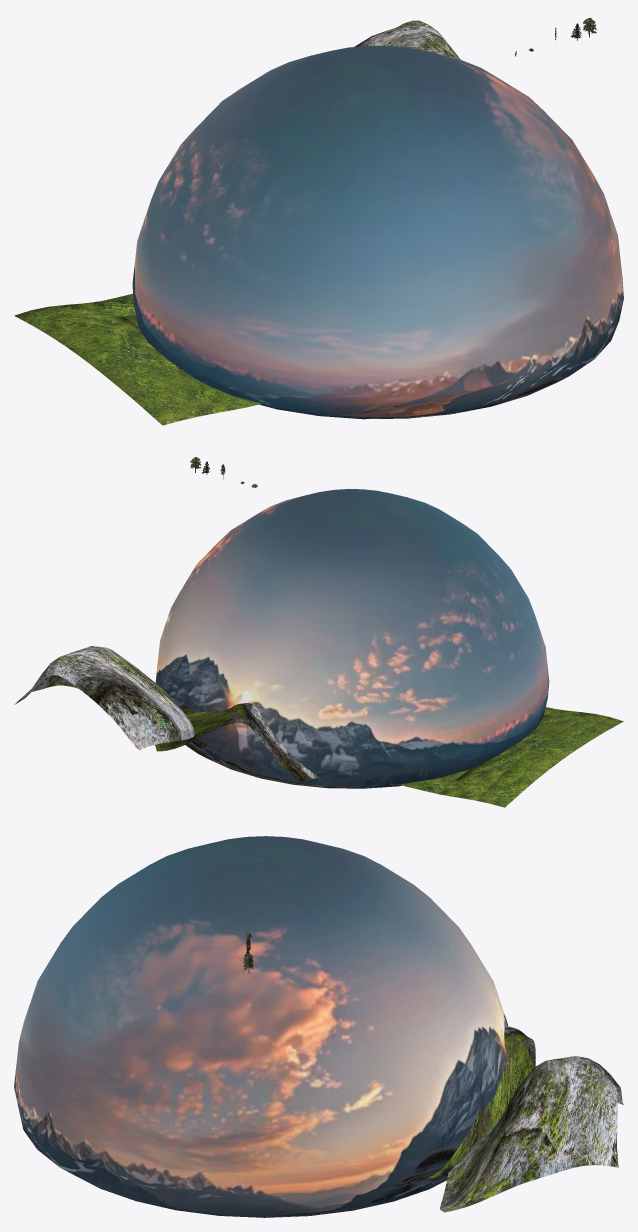
File: forest_lake.glb
The picture shows the model from 3 angles, top to bottom: view 1: azimuth 30°, elevation 25°; view 2: azimuth 150°, elevation 25°; view 3: azimuth 270°, elevation 25°; orthographic projection. The views are drawn at different scales.
Parts seen in each view (by area): view 1: Sphere_Material.011_0, Terrain, Plane.009_Material.009_0; view 2: Sphere_Material.011_0, Plane.009_Material.009_0, Terrain, Plane.007_Material.008_0; view 3: Sphere_Material.011_0, Plane.009_Material.009_0, Plane.007_Material.008_0.
Part boxes in pixels (x1,y1,x2,y2): Sphere_Material.011_0: [132, 45, 623, 419]; Terrain: [14, 293, 261, 425]; Plane.009_Material.009_0: [354, 20, 460, 59]; Sphere_Material.011_0: [155, 489, 549, 788]; Plane.009_Material.009_0: [14, 646, 194, 750]; Terrain: [398, 707, 623, 807]; Plane.007_Material.008_0: [155, 703, 319, 782]; Sphere_Material.011_0: [14, 836, 508, 1217]; Plane.009_Material.009_0: [440, 1056, 623, 1212]; Plane.007_Material.008_0: [428, 1026, 535, 1178].
Size of the model in its own units: 95.92 by 49.54 by 91.41.
Materials: 10 (10 with a texture image).
